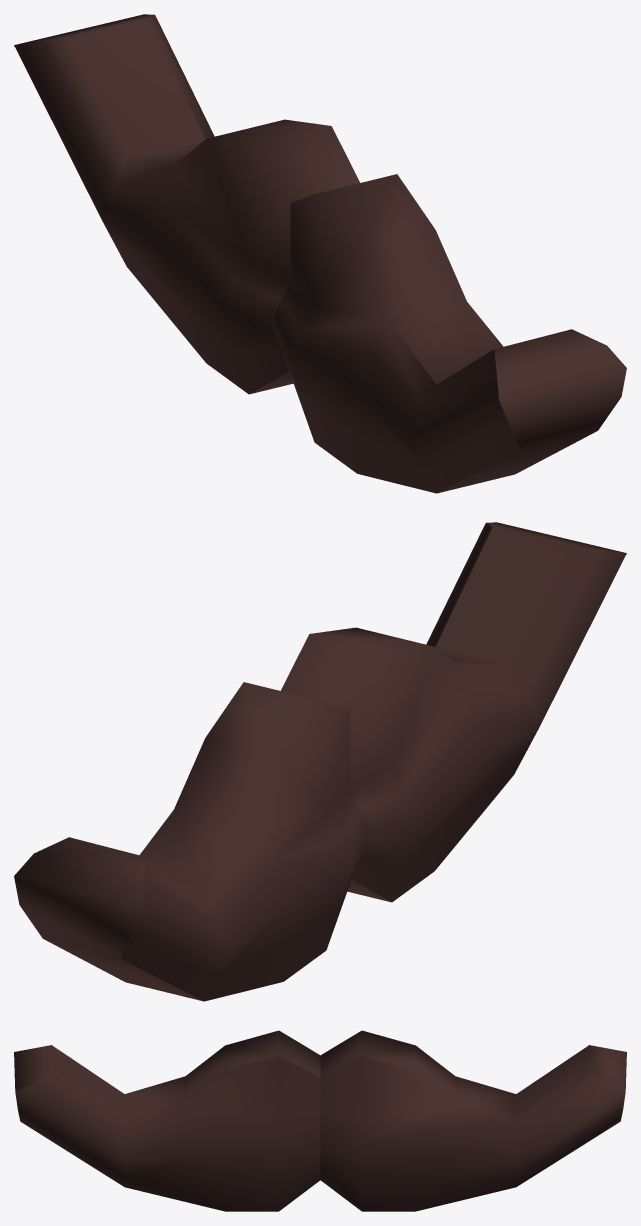
Rendered from Moustache.fbx.
The picture shows the model from 3 angles, top to bottom: view 1: azimuth 30°, elevation 25°; view 2: azimuth 150°, elevation 25°; view 3: azimuth 270°, elevation 25°; orthographic projection. The views are drawn at different scales.
Parts seen in each view (by area): view 1: pCube6; view 2: pCube6; view 3: pCube6.
Boxes of the visible parts, x1,y1,x2,y2 form: pCube6: (14,14,626,493); pCube6: (14,522,626,1001); pCube6: (14,1030,626,1211).
Bounding box in the file's own units: 0.2123 × 0.3749 × 1.33.
